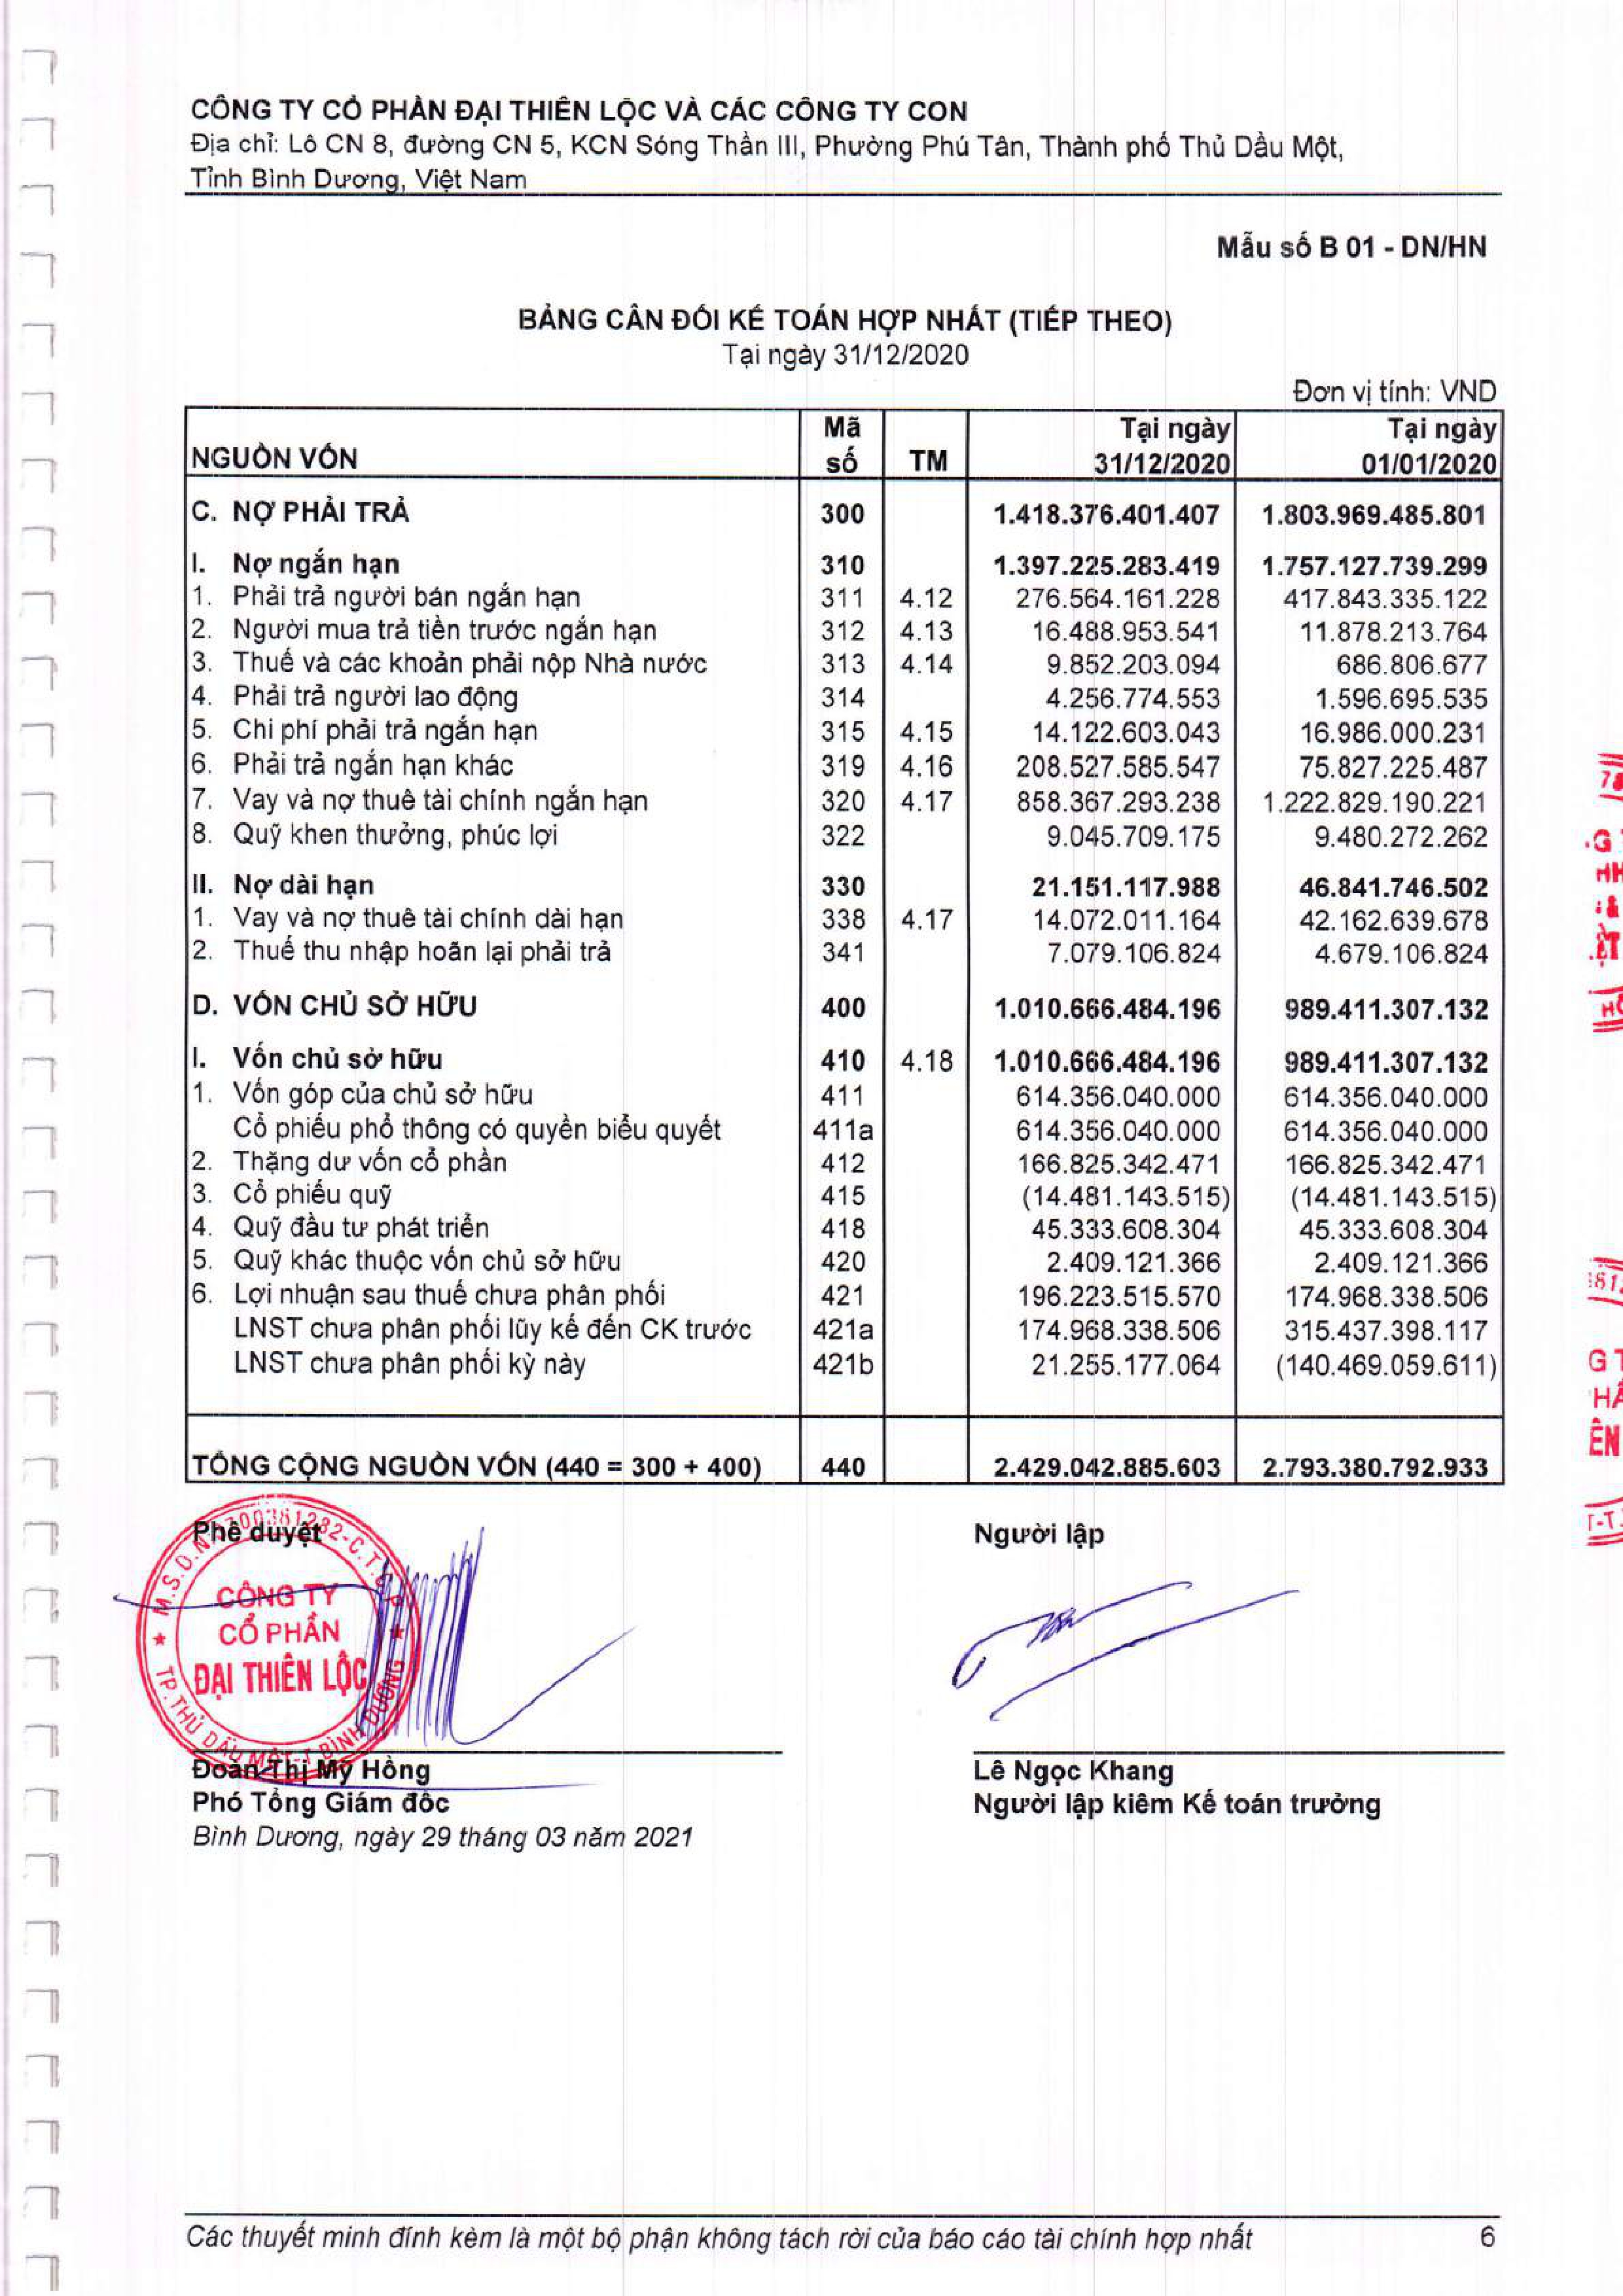table: (167, 404, 1521, 1503)
table column: (184, 405, 775, 1501), (1252, 404, 1511, 1503), (984, 404, 1238, 1501), (808, 404, 878, 1501), (896, 404, 964, 1501)
table column header: (167, 404, 1521, 483)
table row: (167, 414, 1521, 477), (169, 490, 1521, 532), (169, 537, 1521, 579), (169, 1346, 1514, 1383), (167, 1076, 1518, 1111), (169, 748, 1518, 783), (169, 934, 1518, 969), (167, 646, 1518, 679), (167, 818, 1518, 851), (167, 987, 1518, 1020), (167, 1039, 1518, 1073), (167, 1278, 1514, 1311), (169, 1311, 1514, 1345), (169, 1450, 1521, 1482), (169, 581, 1519, 613), (167, 714, 1518, 746), (169, 614, 1518, 646), (169, 681, 1518, 713), (169, 785, 1518, 816), (169, 869, 1518, 900), (169, 902, 1518, 934), (169, 1113, 1516, 1144), (169, 1146, 1514, 1178), (167, 1178, 1512, 1209), (167, 1211, 1512, 1243), (169, 1245, 1514, 1276)
